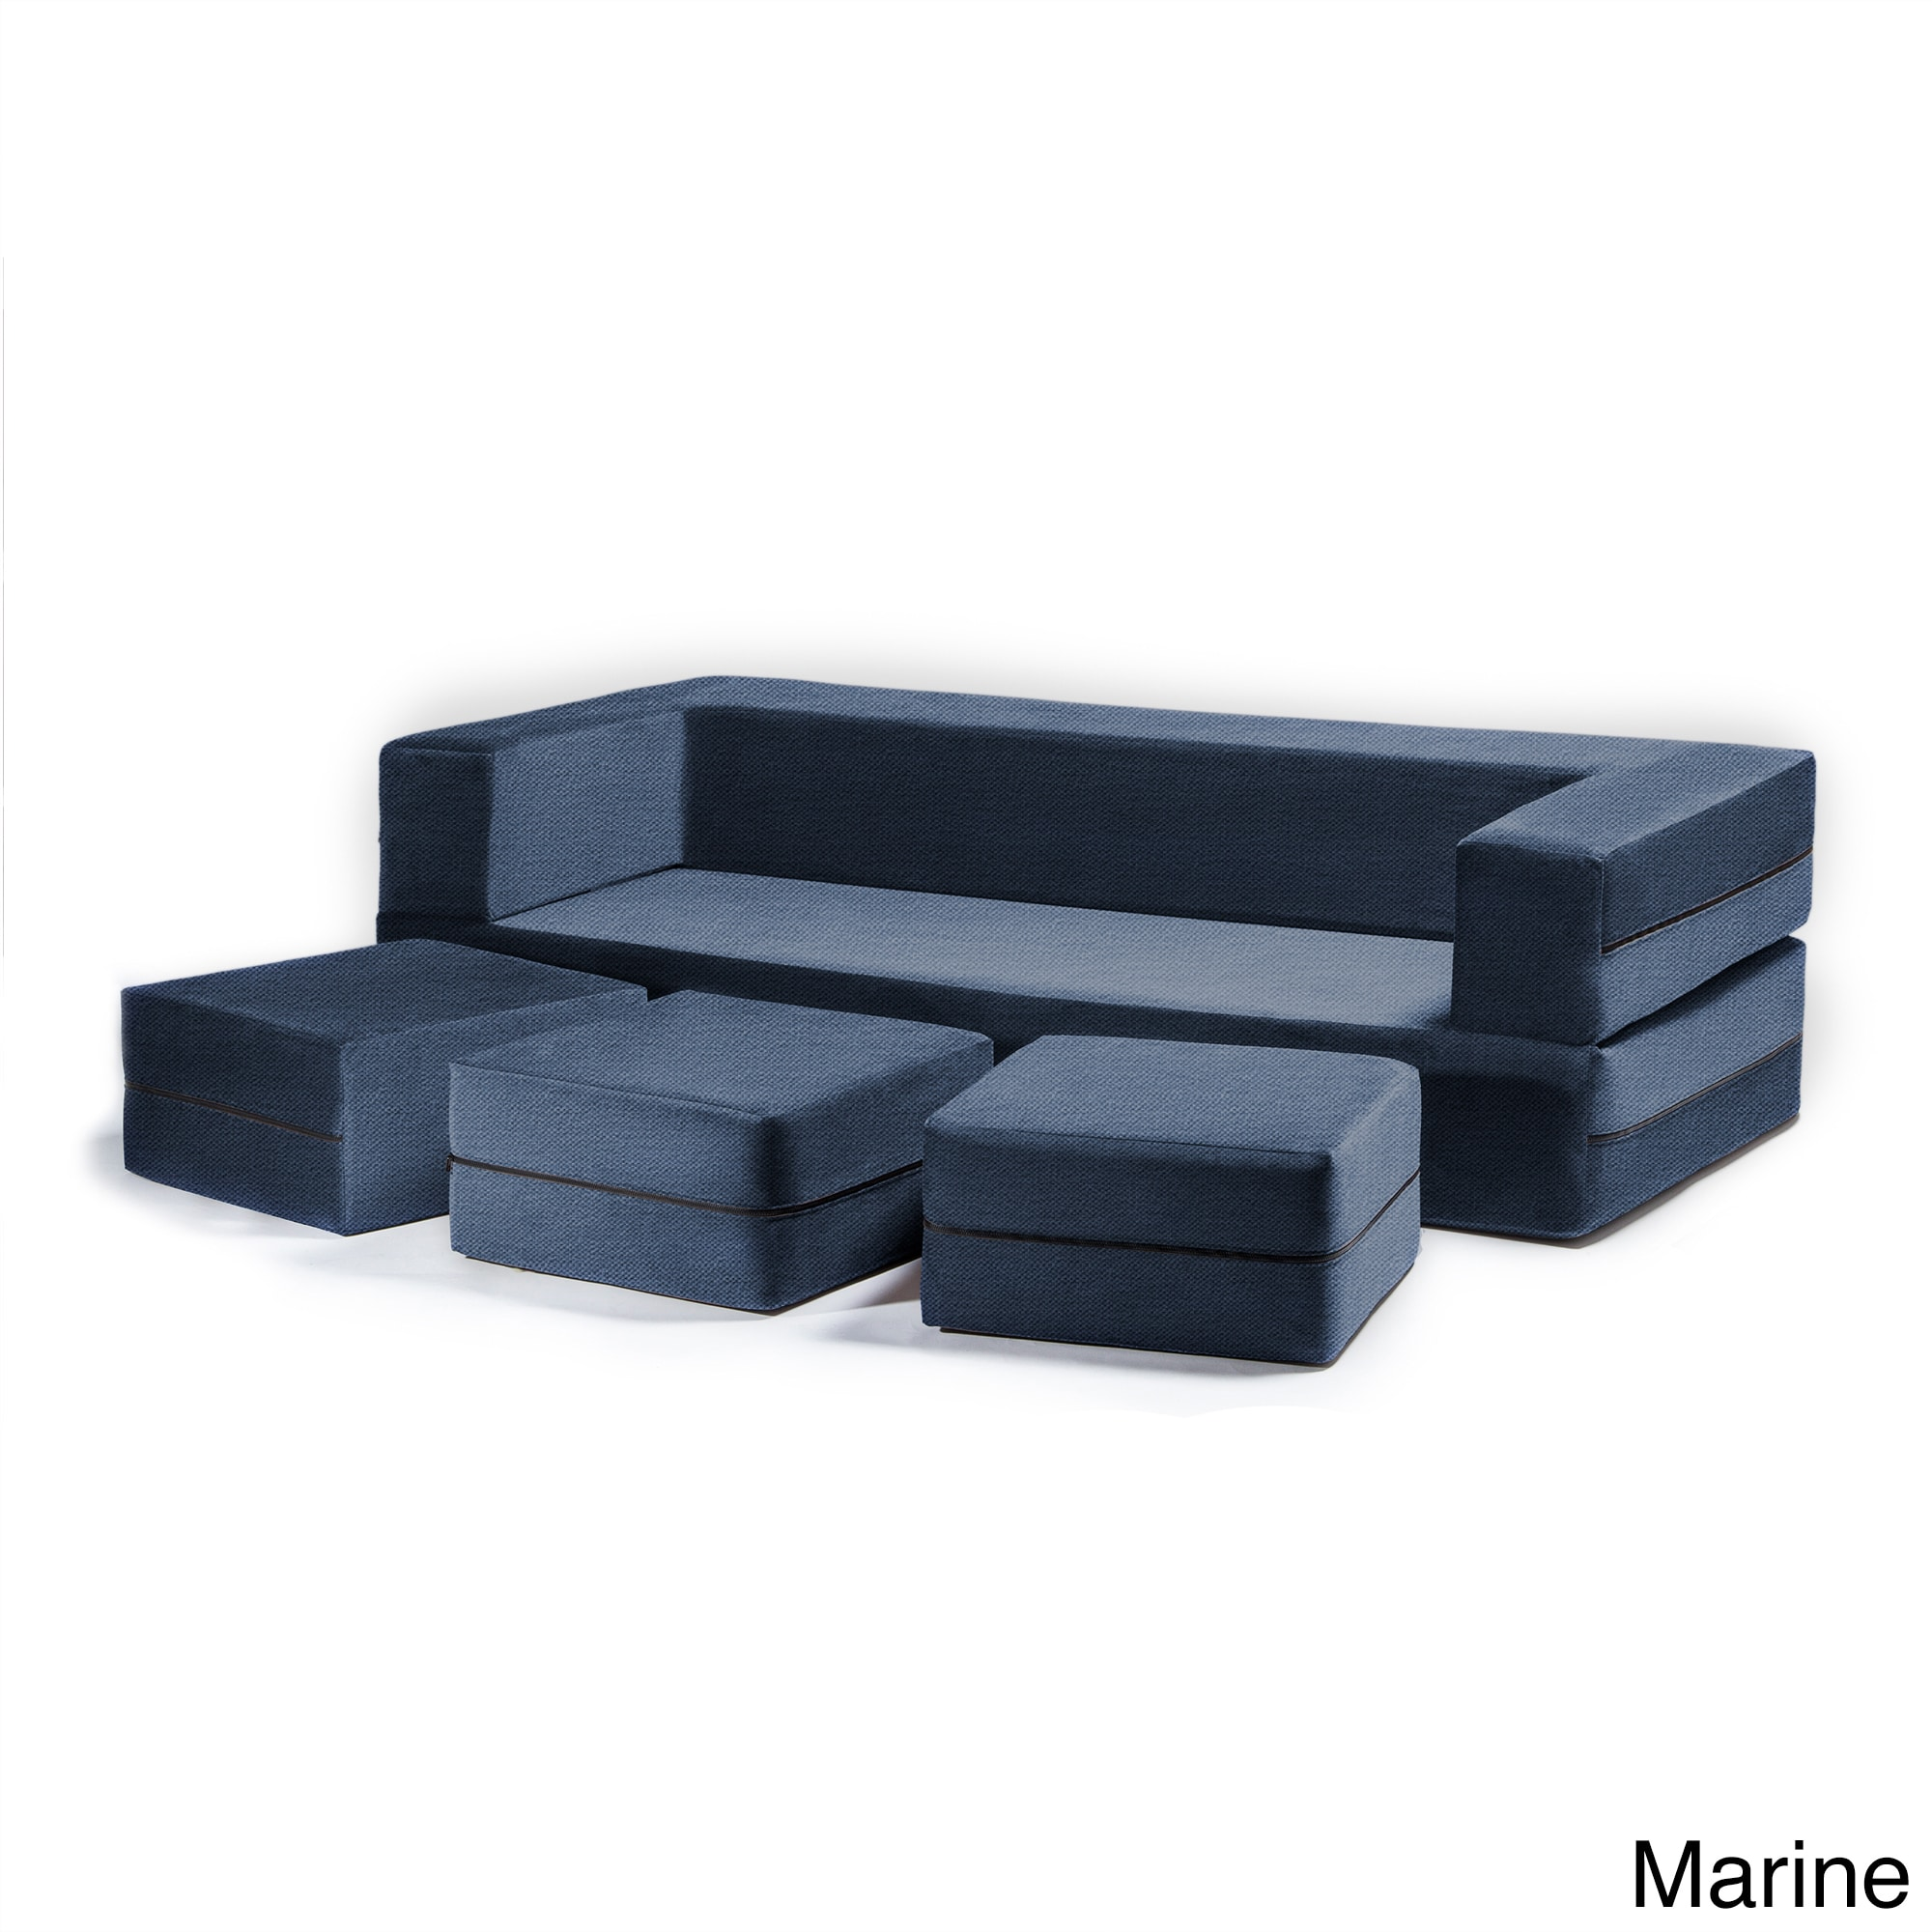chairs: (372, 660, 1812, 1251), (455, 961, 985, 1323), (916, 1016, 1426, 1369), (115, 918, 658, 1244)
